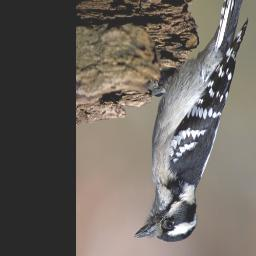Woodpecker: (134, 0, 249, 247)
